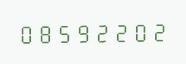eight: (36, 20, 54, 44)
five: (55, 20, 73, 44)
nine: (74, 20, 92, 44)
two: (93, 19, 111, 43), (112, 19, 130, 43), (150, 18, 168, 42)
zero: (17, 21, 35, 45), (131, 19, 149, 43)
